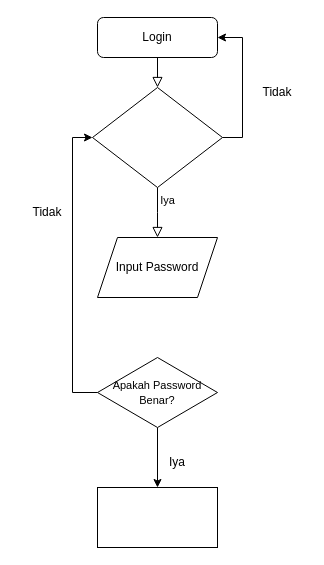
The diagram is 324 pixels wide and 565 high, and some of its shapes have lost their labels. Each missing label, with the box of its shape:
Apakah Username terdaftar?: (92, 86, 222, 188)
Login Berhasil: (96, 486, 218, 548)
